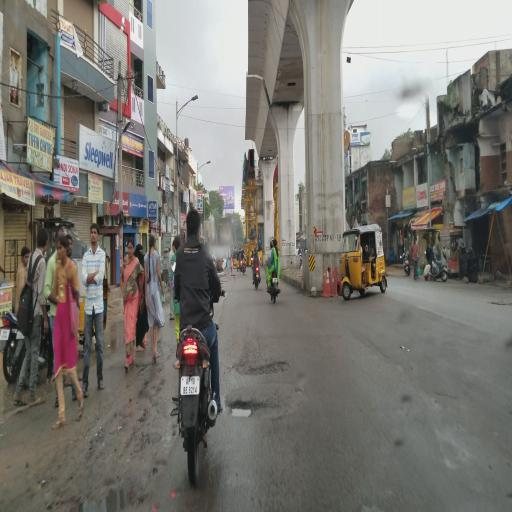street_light_0: (174, 85, 202, 121), (192, 151, 212, 179)
